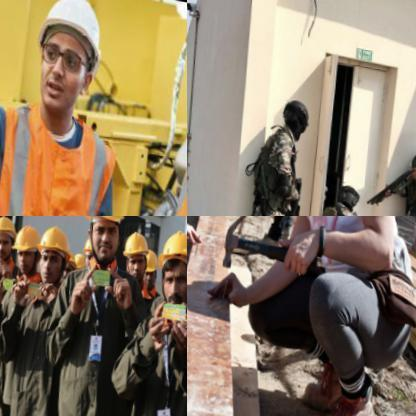vest: (43, 254, 147, 415), (0, 92, 131, 215), (5, 279, 66, 415), (120, 300, 186, 415), (249, 128, 301, 211), (0, 256, 15, 415), (309, 191, 368, 215), (404, 138, 415, 215)
